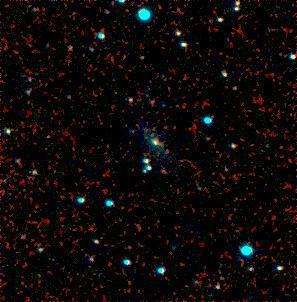star: (154, 130, 184, 160)
